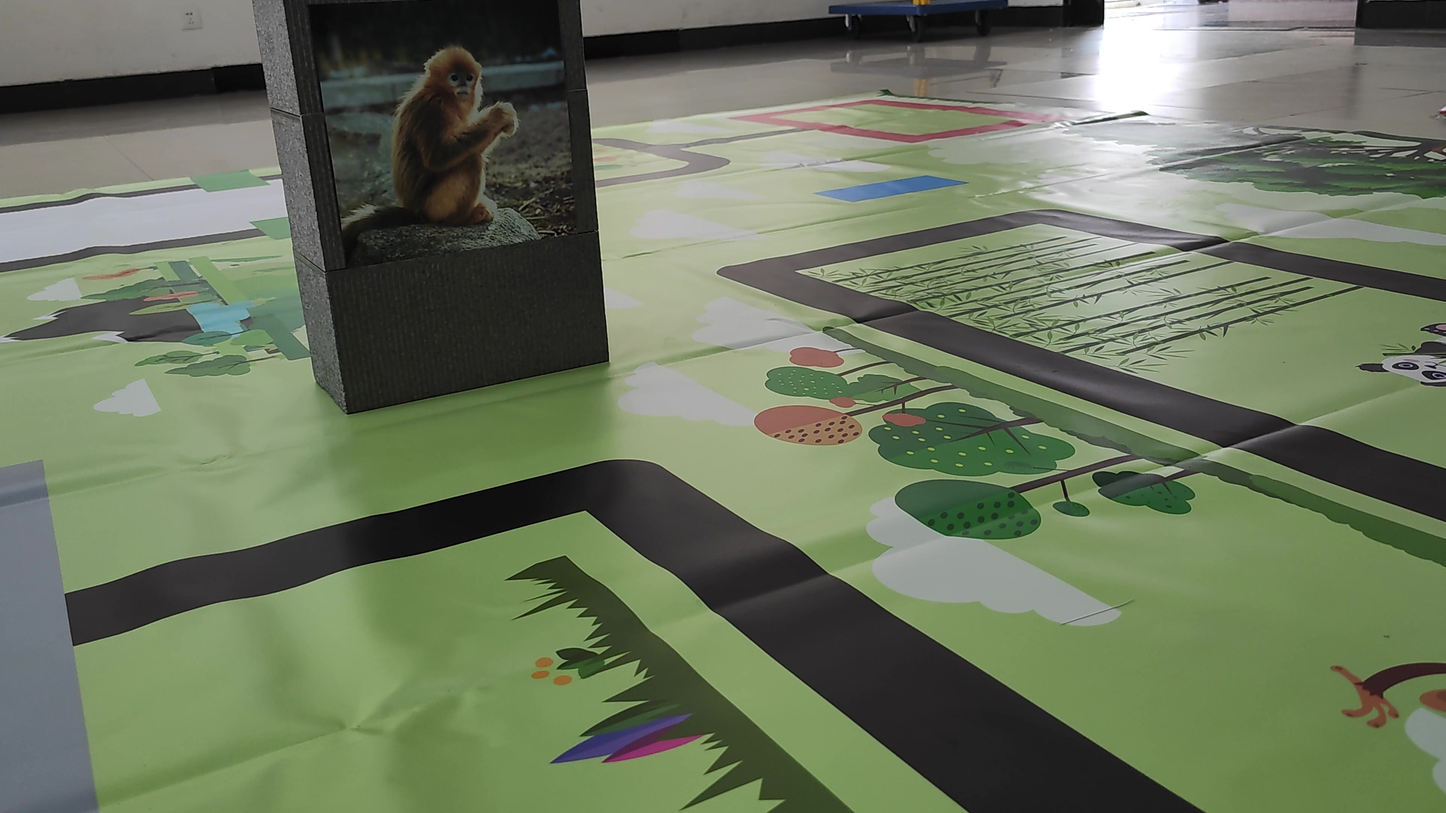monkey: (330, 27, 539, 266)
